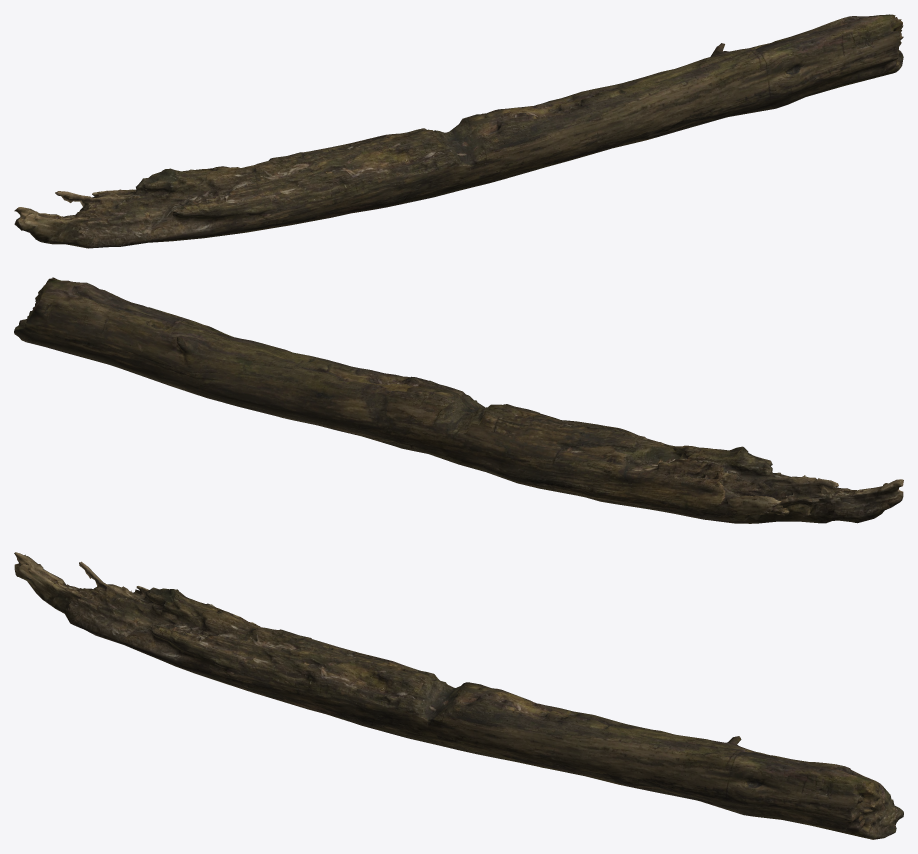
The model's file is dead_tree_trunk.8d0ba7d1f0.glb.
3 renders of one model, top to bottom at view 1: azimuth 30°, elevation 25°; view 2: azimuth 150°, elevation 25°; view 3: azimuth 330°, elevation 25°, orthographic.
Visible parts, largest first — view 1: dead_tree_trunk; view 2: dead_tree_trunk; view 3: dead_tree_trunk.
Part boxes in pixels (<box>): dead_tree_trunk: <box>14,14,903,248</box>; dead_tree_trunk: <box>14,277,903,523</box>; dead_tree_trunk: <box>14,552,903,839</box>.
Bounding box in the file's own units: 3.05 × 0.2905 × 0.2771.
1 material, 1 textured.
